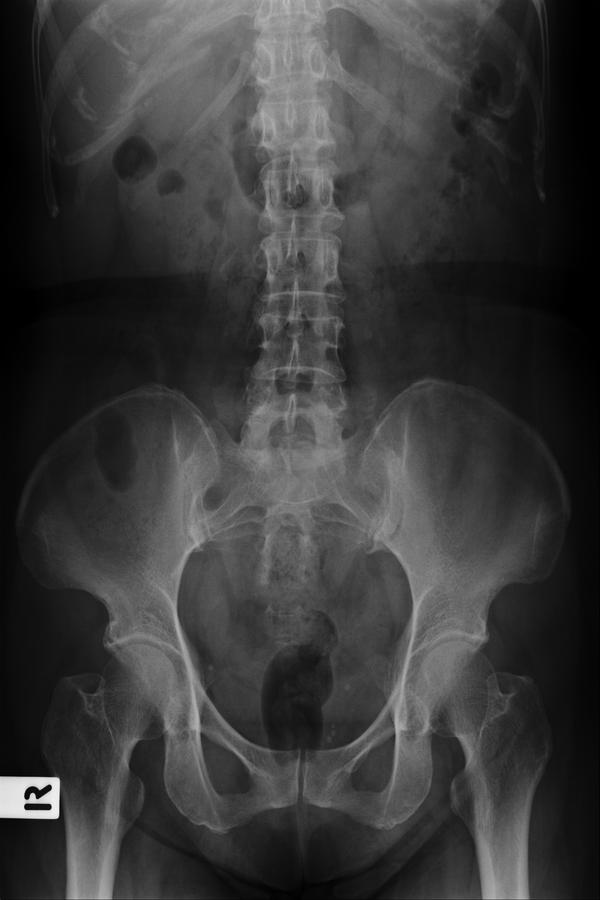lumbar scoliosis: (232, 8, 359, 499)
